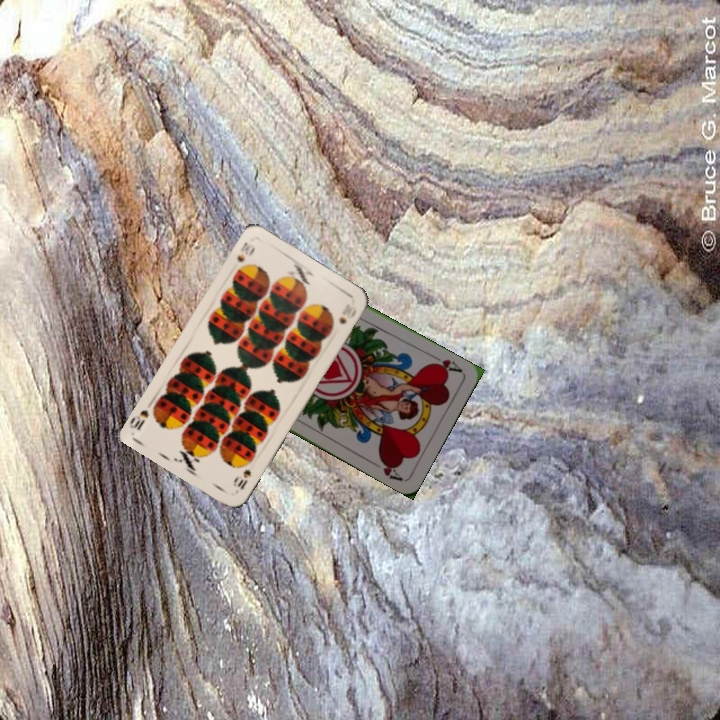HA: (427, 350, 465, 375)
S10: (231, 457, 254, 493), (233, 238, 257, 265)
